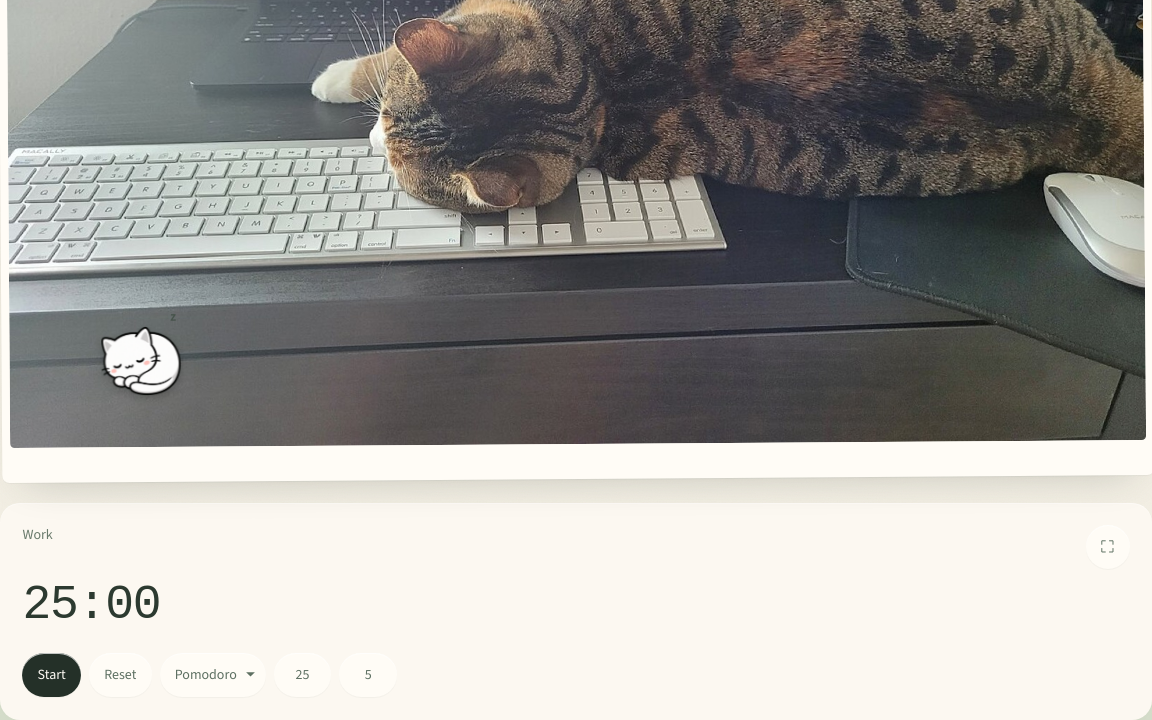
Scenario: FocusPage › lets you replace minutes and restores them if left empty
This screenshot has width=1152, height=720.
(page scrolled)
Clear the field named "Work minutes" at x=302, y=675, box [274,653,331,697]
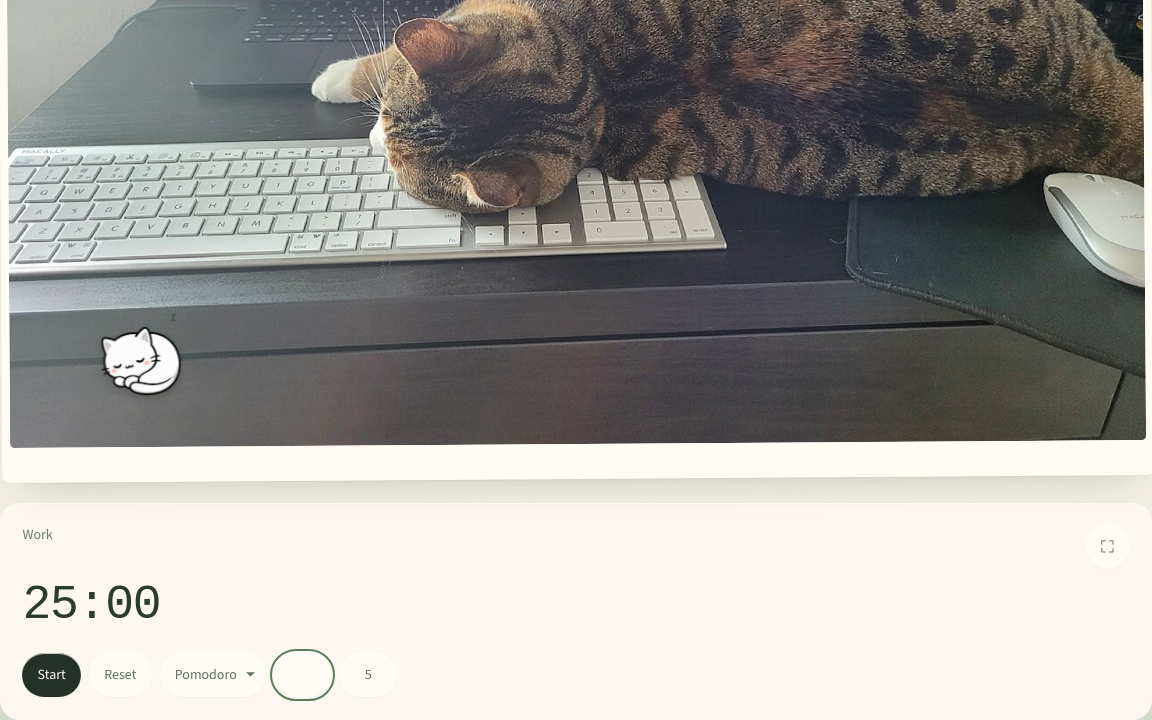
Type "50" into the field named "Work minutes" at x=302, y=675, box [274,653,331,697]
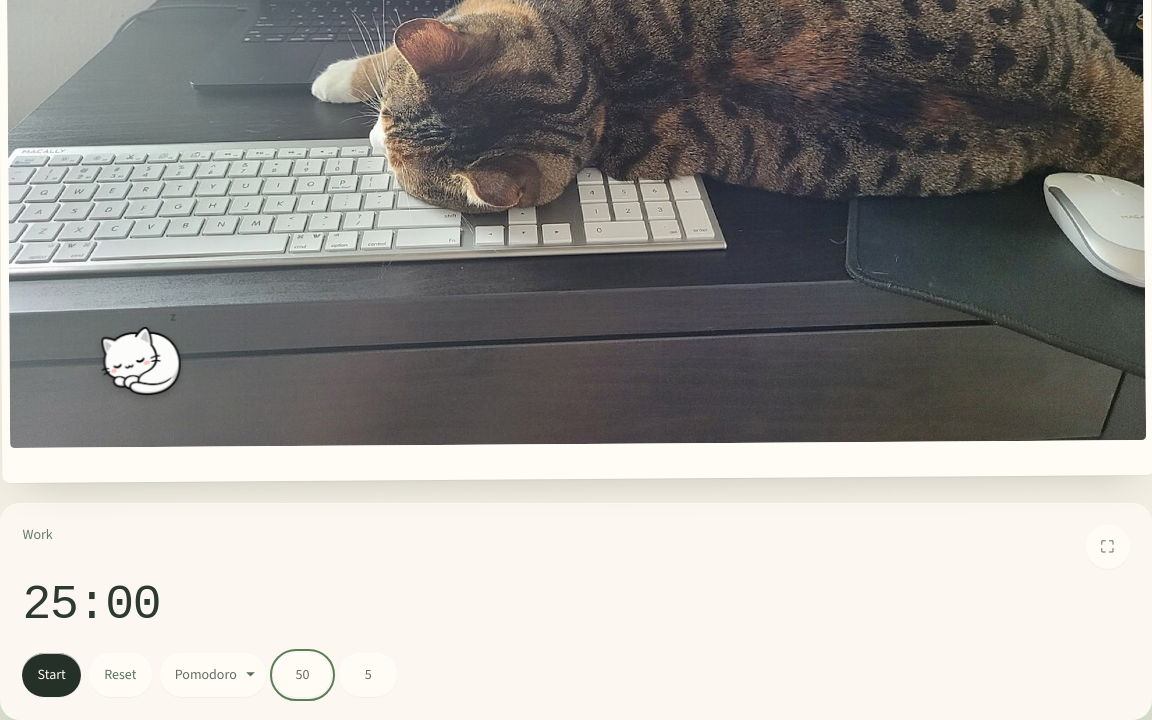
Press Tab
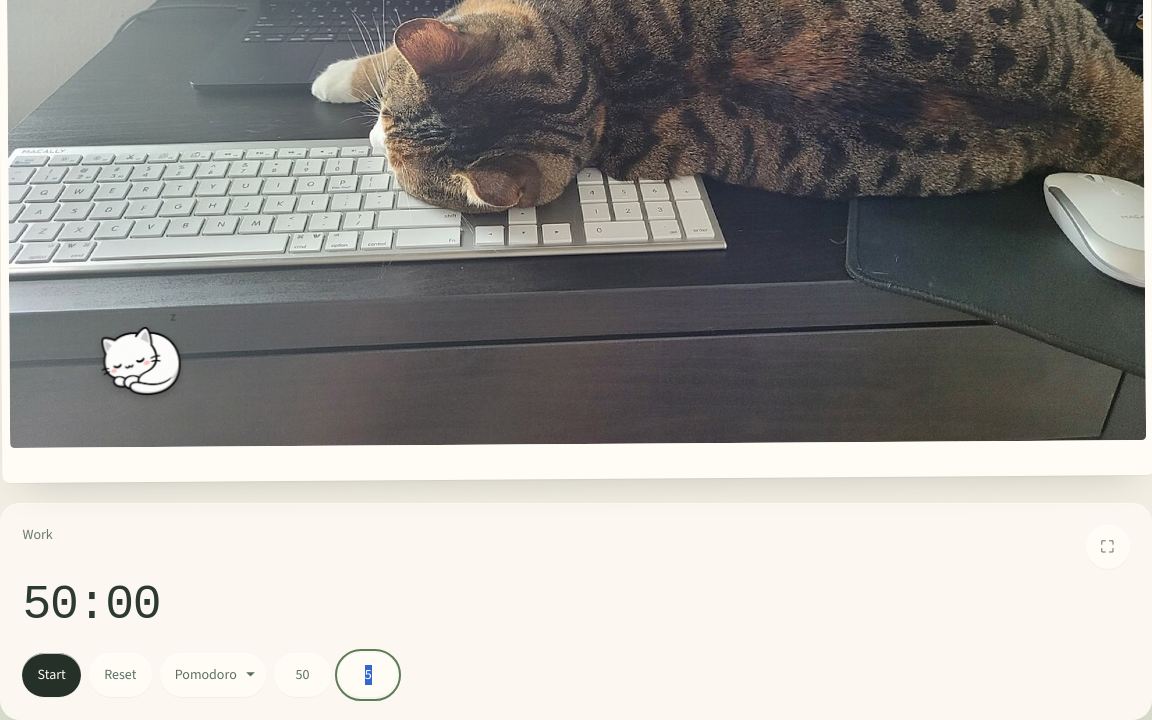
Result: the text "50:00" is shown at [22,578,160,632]
Clear the field named "Work minutes" at x=302, y=675, box [274,653,331,697]
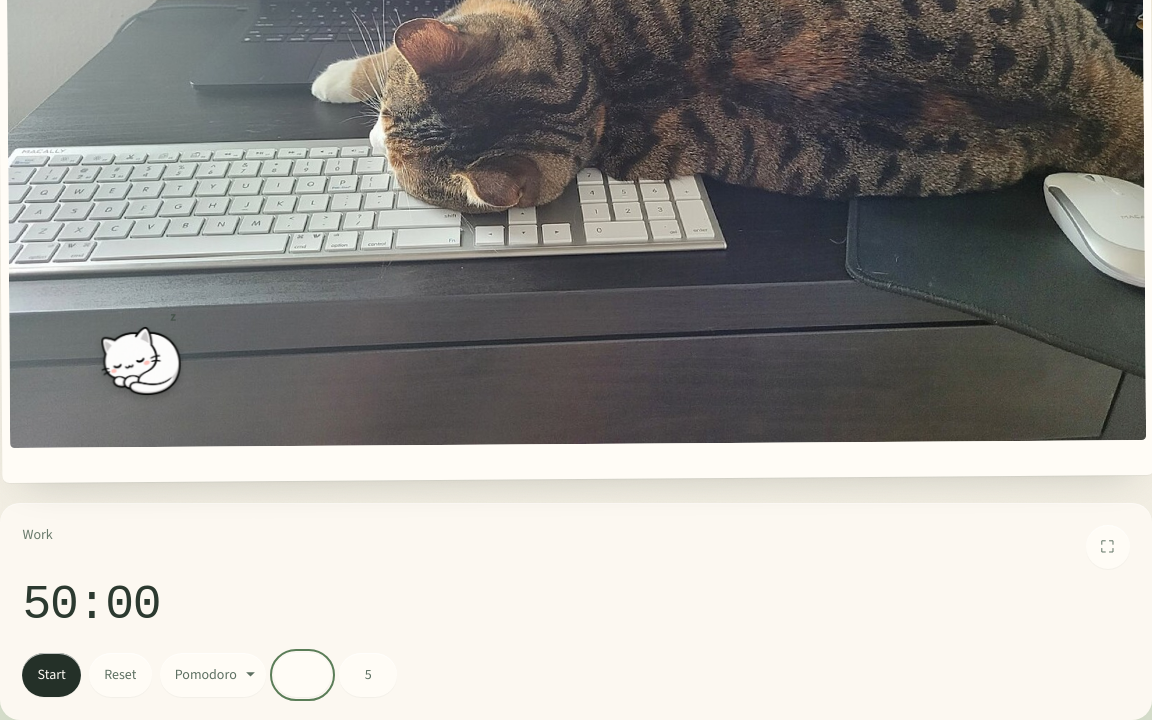
Press Tab
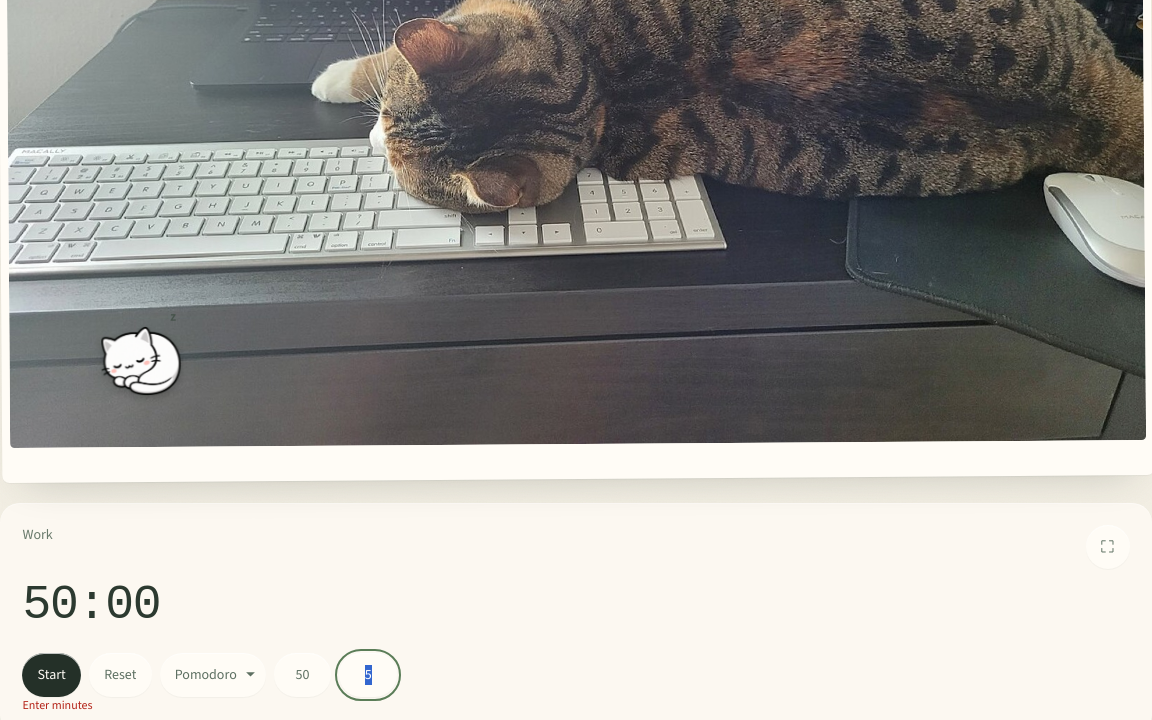
Result: the message reads "Enter minutes" at [22,697,93,713]
